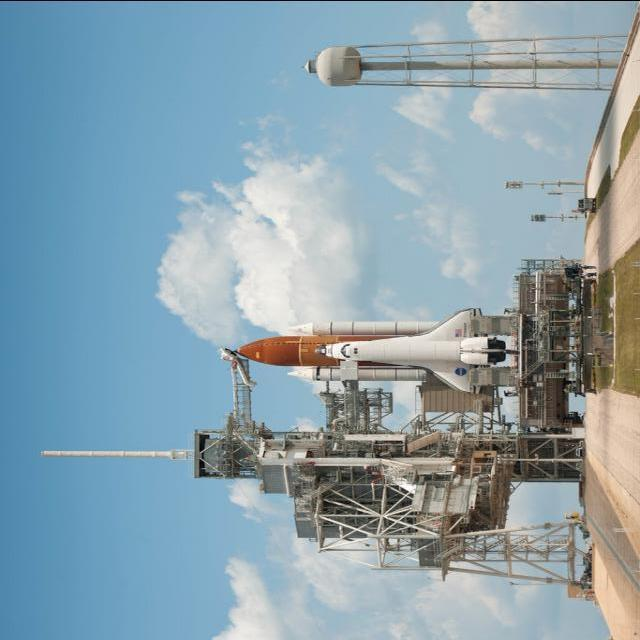Missile: (279, 318, 431, 338), (270, 365, 435, 383)
